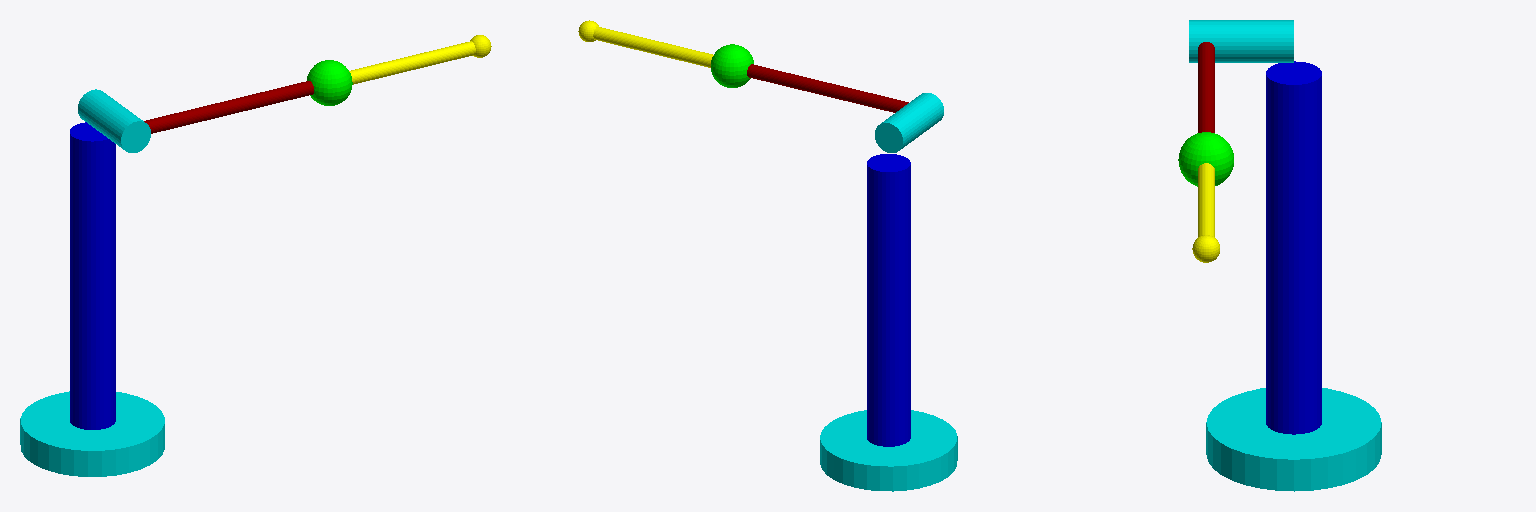
URDF robot description (pend_robot):
<?xml version="1.0"?>
<!--
  Motorised pendulum, tidied version.

  Frame conventions (all link frames are aligned with the world frame when q = 0):
    * the post is vertical, along +z;
    * the motor_joint (shoulder) is at (0, -0.25, 1.3): above the post and 0.25 m to its side,
      so the arm swings in the plane y = -0.25, beside the post and never through it;
    * the joint axis is -y, so a positive angle lifts the arm UP in the x-z plane;
    * at q = 0 the arm points along +x (horizontal).
  The only rpy values in this file are inside <visual>/<inertial> tags. They rotate the
  cylinder shapes (which PyBullet builds along z) so that they lie along x or y.
  They do not change any frame.
-->
<robot name="pend_robot">

  <link name="base_link">
    <visual>
      <origin xyz="0 0 0.05" rpy="0 0 0"/>
      <geometry><cylinder radius="0.25" length="0.1"/></geometry>
      <material name="cyan"><color rgba="0 0.9 0.9 1.0"/></material>
    </visual>
    <inertial>
      <origin xyz="0 0 0.05" rpy="0 0 0"/>
      <mass value="100"/>
      <inertia ixx="10" ixy="0" ixz="0" iyy="10" iyz="0" izz="10"/>
    </inertial>
  </link>

  <link name="body_link">
    <visual>
      <origin xyz="0 0 0.6" rpy="0 0 0"/>
      <geometry><cylinder radius="0.08" length="1.2"/></geometry>
      <material name="blue"><color rgba="0 0 0.9 1.0"/></material>
    </visual>
    <inertial>
      <origin xyz="0 0 0.6" rpy="0 0 0"/>
      <mass value="5"/>
      <inertia ixx="0.6" ixy="0" ixz="0" iyy="0.6" iyz="0" izz="0.05"/>
    </inertial>
  </link>

  <!-- Motor housing: a cylinder along the joint axis (y), from the post to the arm. -->
  <link name="motor_link">
    <visual>
      <origin xyz="0 0.1 0" rpy="1.5707963 0 0"/>
      <geometry><cylinder radius="0.06" length="0.3"/></geometry>
      <material name="cyan"><color rgba="0 0.9 0.9 1.0"/></material>
    </visual>
    <inertial>
      <origin xyz="0 0 0" rpy="0 0 0"/>
      <mass value="1"/>
      <inertia ixx="0.01" ixy="0" ixz="0" iyy="0.01" iyz="0" izz="0.01"/>
    </inertial>
  </link>

  <!-- Arm: 0.8 m long, along +x of its own frame. -->
  <link name="arm_link">
    <visual>
      <origin xyz="0.4 0 0" rpy="0 1.5707963 0"/>
      <geometry><cylinder radius="0.025" length="0.8"/></geometry>
      <material name="red"><color rgba="0.6 0 0 1.0"/></material>
    </visual>
    <inertial>
      <origin xyz="0.4 0 0" rpy="0 0 0"/>
      <mass value="0.5"/>
      <inertia ixx="0.0002" ixy="0" ixz="0" iyy="0.03" iyz="0" izz="0.03"/>
    </inertial>
  </link>

 <!-- Arm: 0.8 m long, along +x of its own frame. -->
  <link name="arm2_link">
    <visual>
      <origin xyz="0.3 0 0" rpy="0 1.5707963 0"/>
      <geometry><cylinder radius="0.025" length="0.6"/></geometry>
      <material name="yellow"><color rgba="1 1 0 1.0"/></material>
    </visual>
    <inertial>
      <origin xyz="0.3 0 0" rpy="0 0 0"/>
      <mass value="0.3"/>
      <inertia ixx="0.0002" ixy="0" ixz="0" iyy="0.03" iyz="0" izz="0.03"/>
    </inertial>
  </link>

  <!-- Ball at the end of the arm. Its frame origin is exactly the arm tip. -->
  <link name="ball_link">
    <visual>
      <origin xyz="0 0 0" rpy="0 0 0"/>
      <geometry><sphere radius="0.08"/></geometry>
      <material name="green"><color rgba="0 1 0 1"/></material>
    </visual>
    <inertial>
      <origin xyz="0 0 0" rpy="0 0 0"/>
      <mass value="2"/>
      <inertia ixx="0.005" ixy="0" ixz="0" iyy="0.005" iyz="0" izz="0.005"/>
    </inertial>
  </link>

    <link name="tip_link">
      <visual>
        <origin xyz="0 0 0" rpy="0 0 0"/>
        <geometry><sphere radius="0.04"/></geometry>
        <material name="yellow"><color rgba="1 1 0 1"/></material>
      </visual>
      <inertial>
        <origin xyz="0 0 0" rpy="0 0 0"/>
        <mass value="0.1"/>
        <inertia ixx="0.0001" ixy="0" ixz="0" iyy="0.0001" iyz="0" izz="0.0001"/>
      </inertial>
    </link>

  <joint name="base_joint" type="continuous">
    <parent link="base_link"/>
    <child link="body_link"/>
    <axis xyz="0 0 1"/>
    <dynamics damping="0.05" friction="0.0"/>
    <origin xyz="0 0 0" rpy="0 0 0"/>
  </joint>

  <!-- The only moving joint: the shoulder. -->
  <joint name="motor_joint" type="continuous">
    <parent link="body_link"/>
    <child link="motor_link"/>
    <origin xyz="0 -0.25 1.3" rpy="0 0 0"/>
    <axis xyz="0 -1 0"/>
    <dynamics damping="0.05" friction="0.0"/>
  </joint>

    <joint name="elbow_joint" type="continuous">
      <parent link="ball_link"/>
      <child link="arm2_link"/>
      <origin xyz="0 0 0" rpy="0 0 0"/>
      <axis xyz="0 -1 0"/>
      <dynamics damping="0.05" friction="0.0"/>
    </joint>    

  <joint name="arm_fixed" type="fixed">
    <parent link="motor_link"/>
    <child link="arm_link"/>
    <origin xyz="0 0 0" rpy="0 0 0"/>
  </joint>

  <joint name="ball_fixed" type="fixed">
    <parent link="arm_link"/>
    <child link="ball_link"/>
    <origin xyz="0.8 0 0" rpy="0 0 0"/>
  </joint>

    <joint name="tip_fixed" type="fixed">
      <parent link="arm2_link"/>
      <child link="tip_link"/>
      <origin xyz="0.6 0 0" rpy="0 0 0"/>
    </joint>

</robot>

--- What the picture shows (computed from the rendered views, not written in the file) ---
3 views of the same robot in one strip: view 1: azimuth 30°, elevation 25°; view 2: azimuth 150°, elevation 25°; view 3: azimuth 270°, elevation 25° (orthographic).
Robot: pend_robot — 7 links, 6 joints (3 continuous, 3 fixed); root link base_link; default pose: every joint at zero.
Links seen in each view (by area): view 1: body_link, base_link, motor_link, arm_link, arm2_link, ball_link; view 2: body_link, base_link, motor_link, arm_link, arm2_link, ball_link; view 3: body_link, base_link, motor_link, ball_link, arm_link, arm2_link, tip_link.
Link boxes in pixels (x1,y1,x2,y2): body_link: (70, 122, 115, 429); base_link: (20, 391, 164, 476); motor_link: (78, 89, 150, 152); arm_link: (144, 81, 313, 133); arm2_link: (349, 41, 475, 84); ball_link: (307, 60, 352, 105); body_link: (867, 154, 910, 446); base_link: (820, 410, 957, 491); motor_link: (875, 93, 943, 152); arm_link: (747, 64, 908, 112); arm2_link: (593, 27, 713, 67); ball_link: (711, 44, 753, 87); body_link: (1266, 61, 1321, 434); base_link: (1206, 388, 1381, 491); motor_link: (1189, 20, 1293, 62); ball_link: (1178, 132, 1233, 186); arm_link: (1198, 42, 1214, 132); arm2_link: (1198, 163, 1214, 236); tip_link: (1192, 235, 1219, 262).
Size in the robot's own frame: 1.69 by 0.58 by 1.38 metres.
Geometry: primitives only (box / cylinder / sphere), no mesh files.
